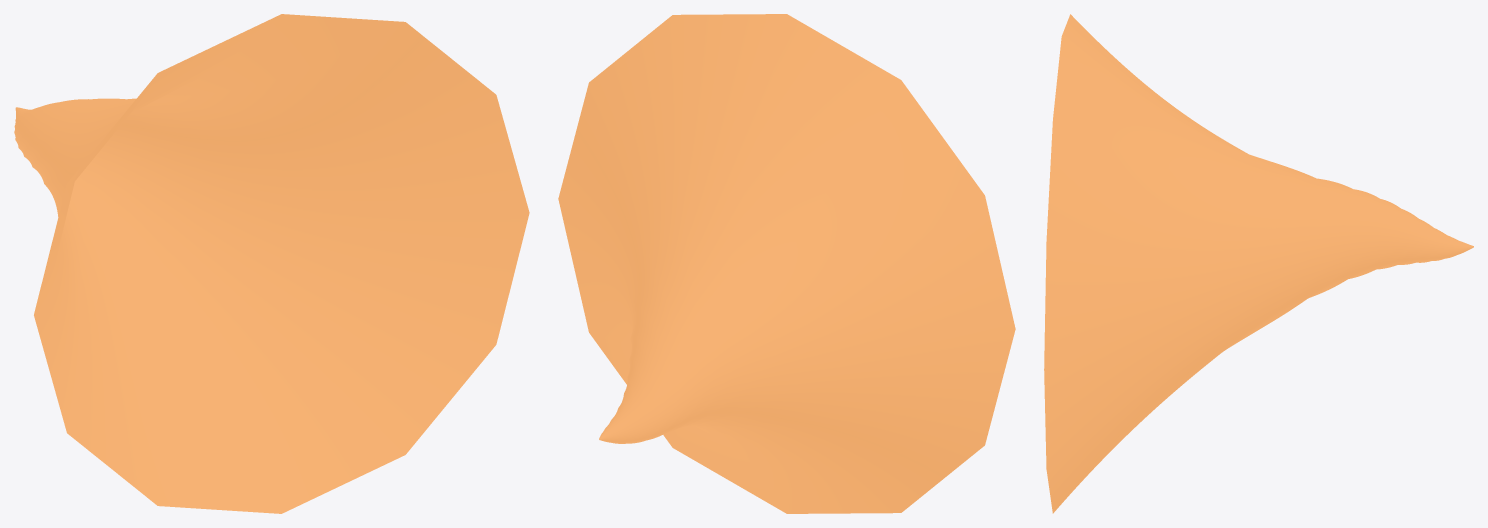
File: trivalityBackground.gltf
3 views of the same model, side by side, from view 1: azimuth 30°, elevation 25°; view 2: azimuth 150°, elevation 25°; view 3: azimuth 270°, elevation 25° (orthographic). The views are drawn at different scales.
Visible parts, largest first — view 1: NurbsPath; view 2: NurbsPath; view 3: NurbsPath.
Part boxes in pixels (left/top/right/bottom): NurbsPath: left=14, top=14, right=529, bottom=513; NurbsPath: left=558, top=14, right=1015, bottom=513; NurbsPath: left=1044, top=14, right=1473, bottom=513.
Bounding box in the file's own units: 19.63 × 19.68 × 16.84.
